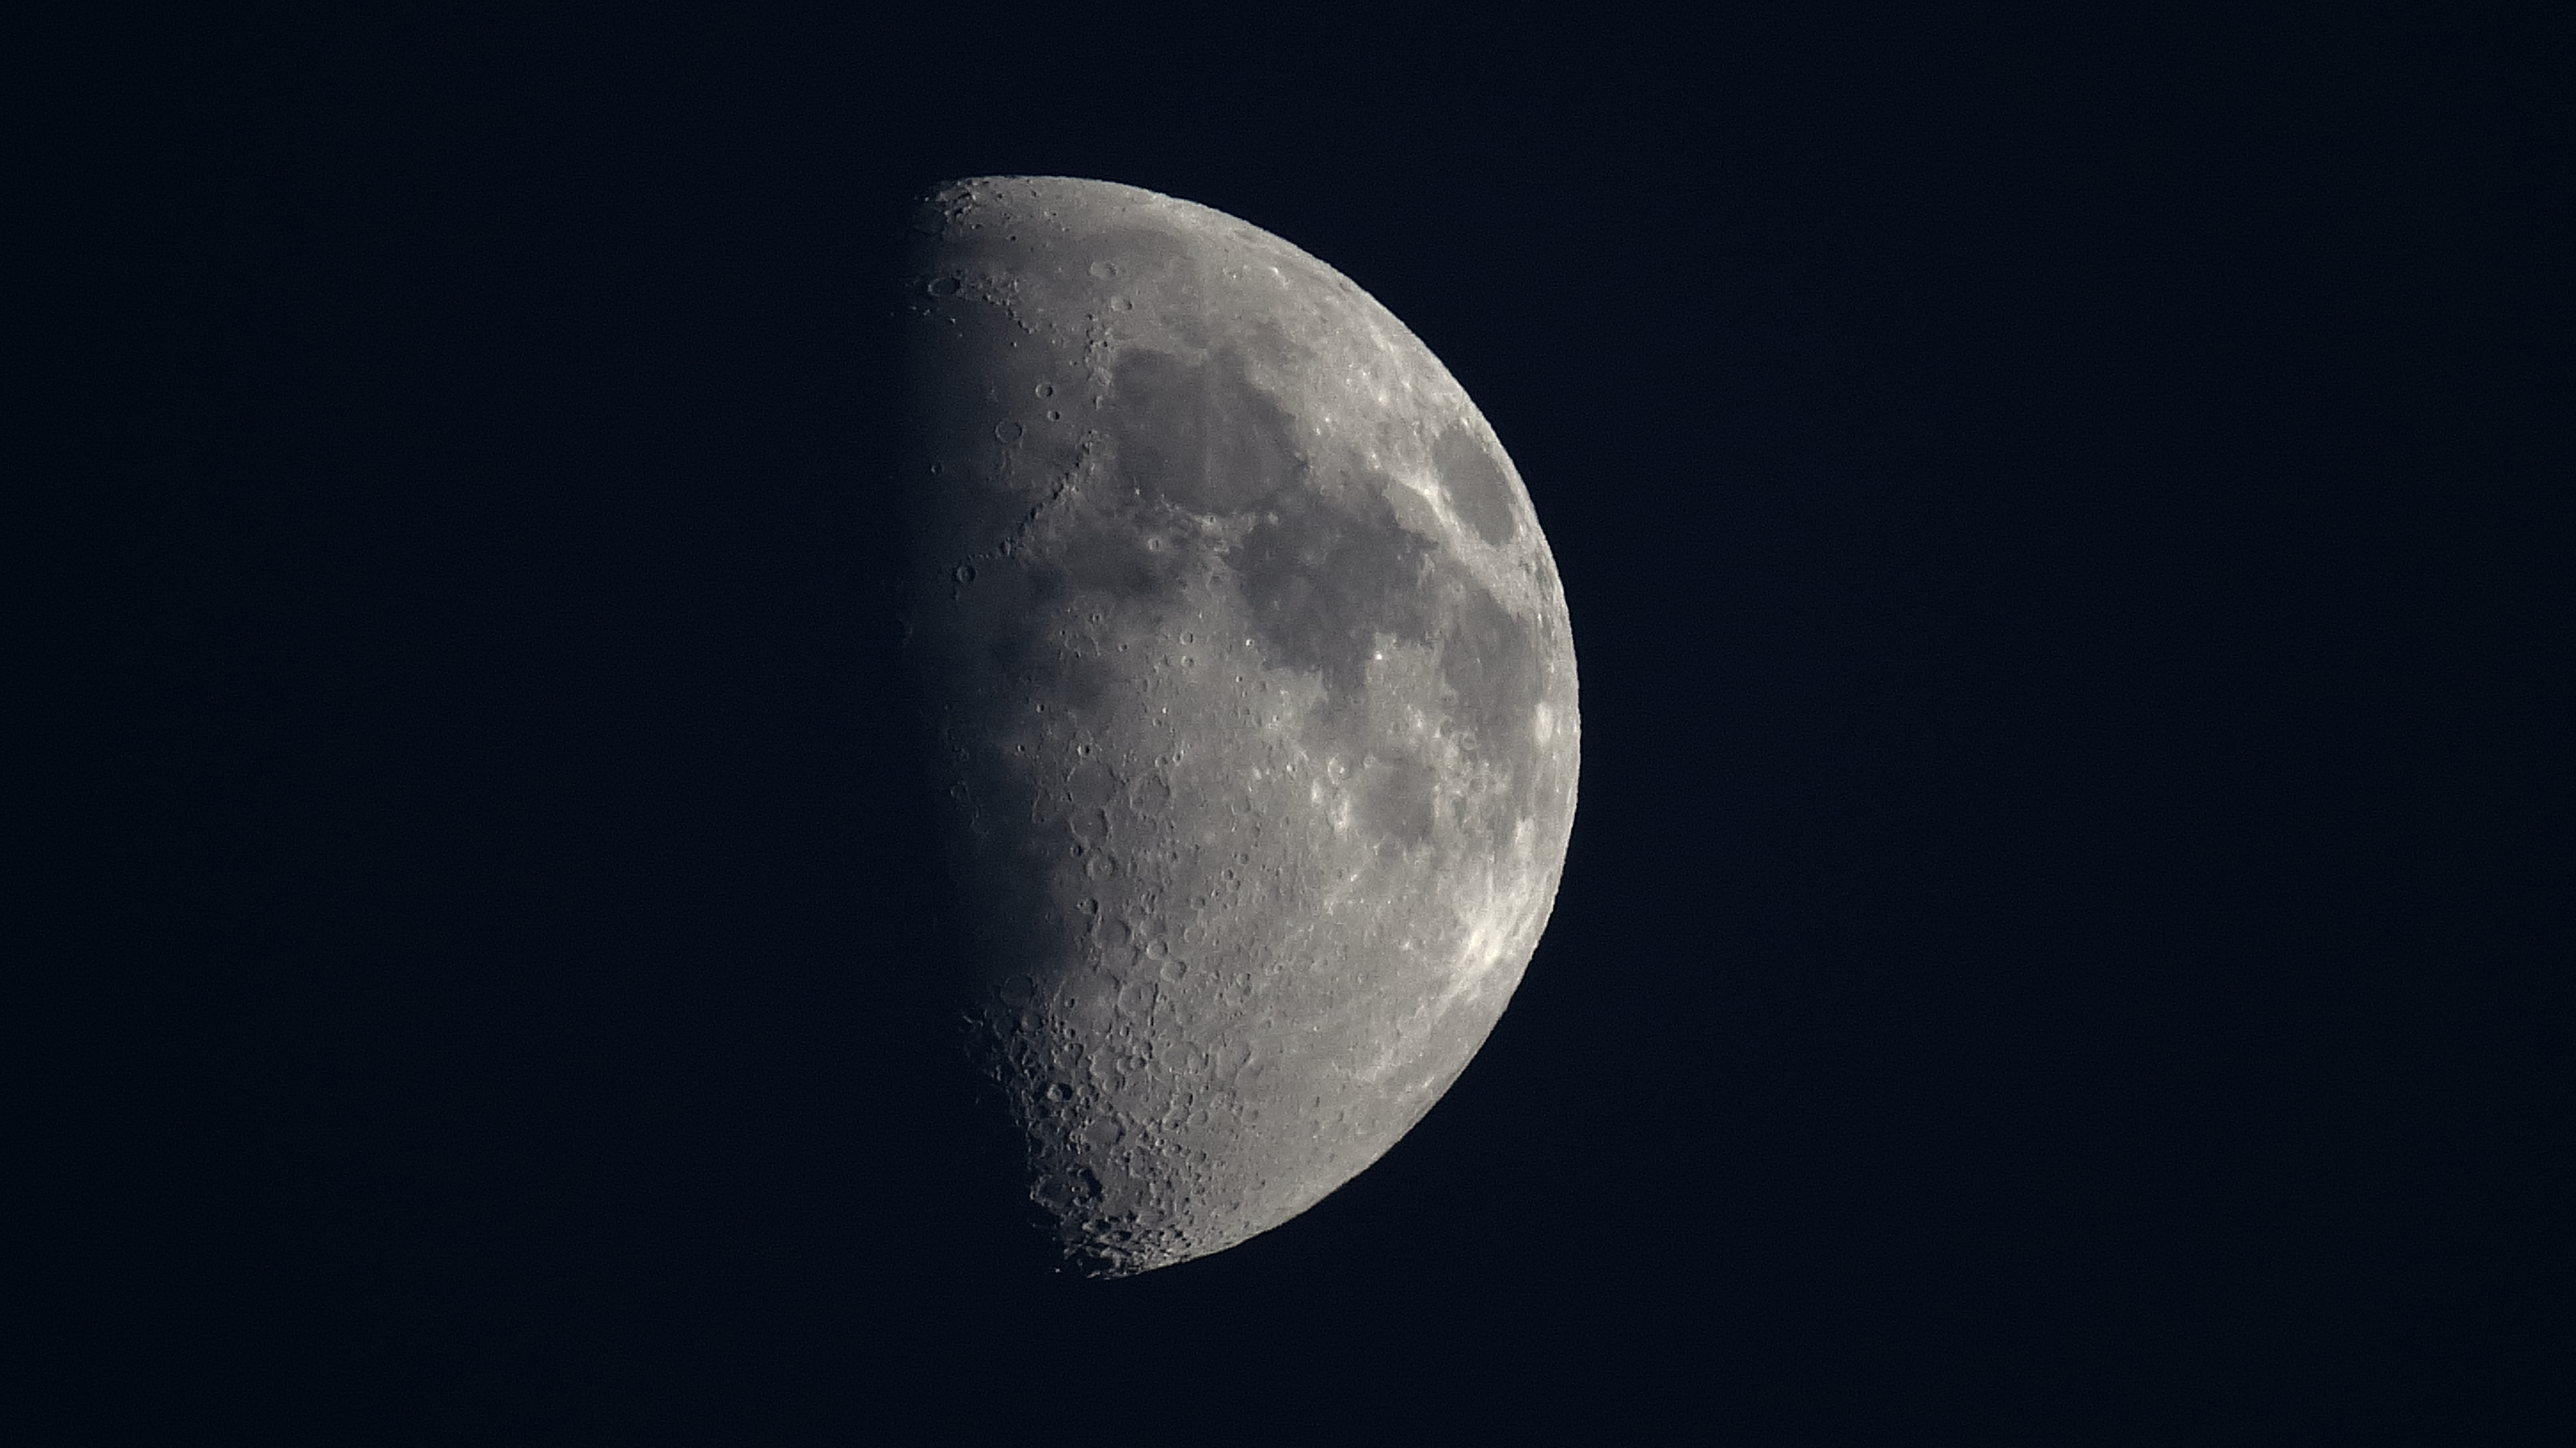crater: (1017, 1161, 1125, 1216), (980, 411, 1042, 462), (922, 264, 975, 312), (1077, 243, 1129, 290), (1100, 281, 1148, 322), (1168, 614, 1210, 655), (943, 556, 984, 593), (1364, 639, 1396, 676), (1171, 646, 1210, 676), (1138, 528, 1171, 559), (1081, 604, 1111, 632), (1070, 738, 1099, 761)
